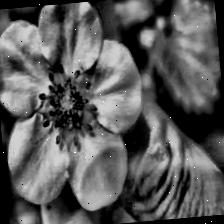Blossom Blight: (29, 62, 105, 154)
